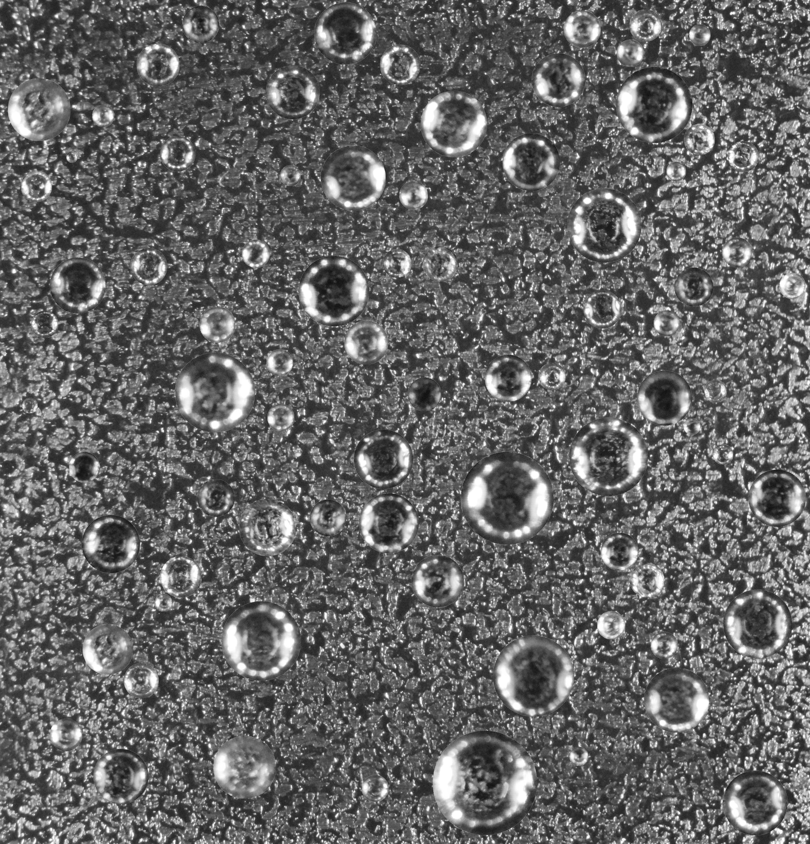Bubble: (432, 730, 537, 835), (460, 451, 553, 544), (493, 635, 574, 716), (175, 352, 254, 432), (221, 601, 300, 680), (569, 417, 647, 496), (616, 66, 692, 142), (567, 188, 641, 262), (298, 255, 369, 326), (723, 589, 792, 658), (420, 90, 487, 157), (644, 667, 709, 732), (320, 145, 385, 210), (723, 770, 787, 835), (7, 78, 70, 140), (314, 2, 376, 64), (213, 736, 275, 798), (353, 429, 413, 488), (359, 493, 418, 553), (81, 515, 139, 573), (502, 133, 560, 190), (748, 469, 805, 526), (239, 499, 296, 556), (49, 257, 105, 313), (637, 370, 692, 425), (93, 749, 148, 804), (265, 65, 319, 119), (531, 53, 585, 106), (411, 555, 463, 607), (82, 624, 132, 674), (484, 354, 531, 401), (344, 320, 388, 364), (136, 43, 179, 86), (160, 556, 201, 597), (380, 44, 420, 84), (674, 267, 713, 306), (583, 290, 621, 328), (600, 532, 638, 570), (182, 5, 219, 42), (309, 499, 346, 536), (197, 479, 234, 516), (563, 10, 600, 47), (130, 248, 167, 284), (199, 306, 235, 342), (123, 663, 158, 698), (160, 136, 195, 171), (422, 246, 457, 281), (407, 377, 441, 411), (630, 563, 664, 597), (49, 718, 82, 751), (629, 9, 661, 41), (20, 170, 51, 201), (684, 124, 714, 154), (722, 237, 752, 267), (728, 141, 758, 171), (69, 452, 99, 482), (382, 249, 411, 277), (399, 181, 427, 209), (241, 239, 269, 267), (597, 611, 625, 639), (650, 631, 677, 658), (267, 404, 294, 431), (31, 310, 58, 337), (616, 39, 643, 66), (538, 362, 565, 389), (361, 775, 388, 801), (653, 310, 679, 336), (266, 349, 292, 375), (779, 272, 805, 298), (92, 104, 114, 126), (704, 380, 726, 402), (689, 24, 710, 45), (713, 444, 733, 464), (280, 165, 300, 185), (666, 161, 686, 181), (569, 747, 588, 765), (154, 594, 172, 611), (683, 418, 700, 434), (22, 397, 37, 413), (66, 151, 77, 162)
